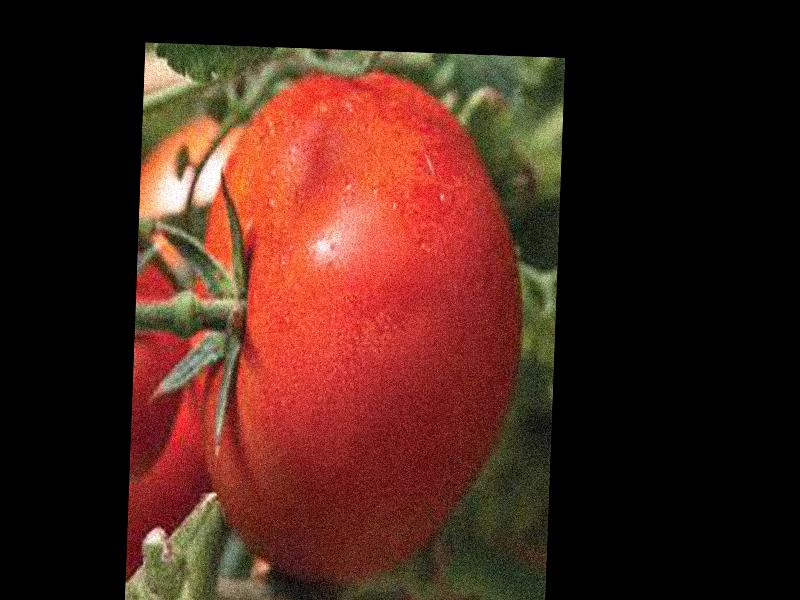Tomato: (184, 66, 527, 585)
